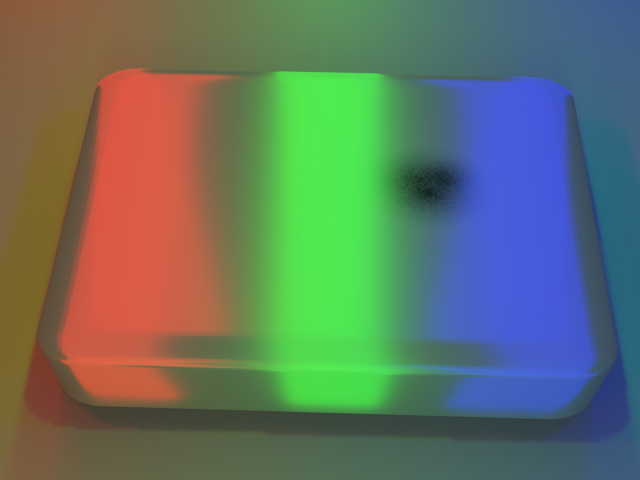stain: (358, 126, 559, 237)
